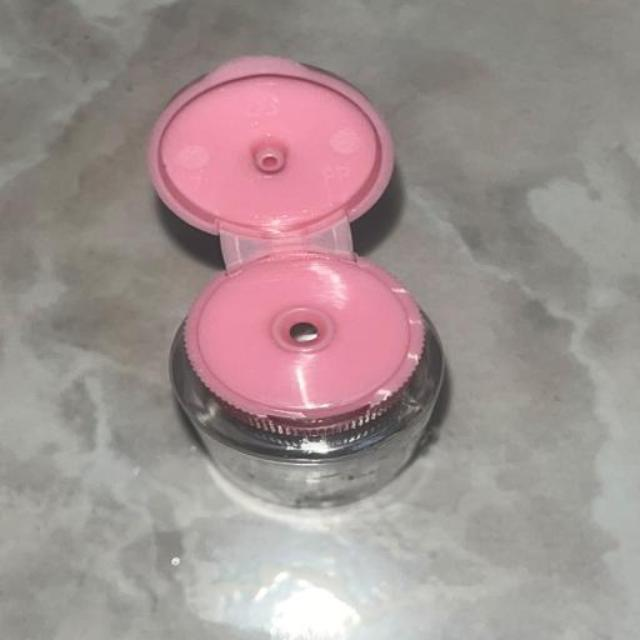PET: (74, 19, 551, 571)
